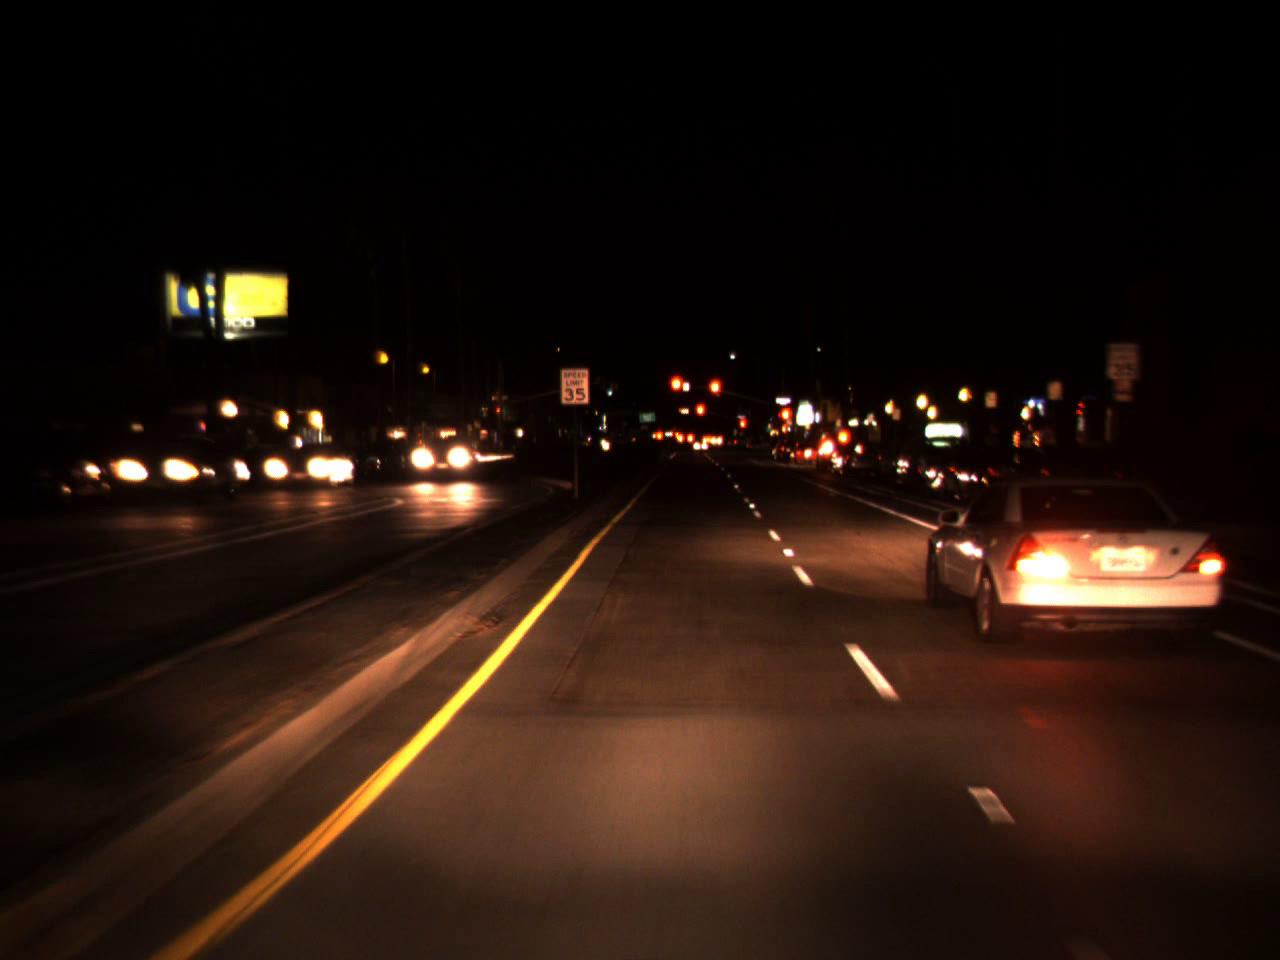stop: (774, 404, 795, 447), (667, 372, 686, 409), (707, 376, 723, 411), (695, 401, 707, 430), (738, 415, 747, 442), (495, 407, 501, 417)
